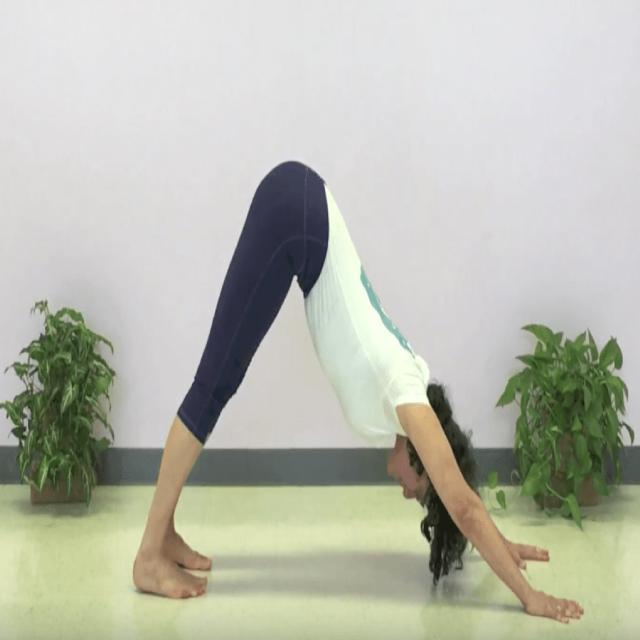Downward-Facing_Dog: (126, 153, 591, 629)
